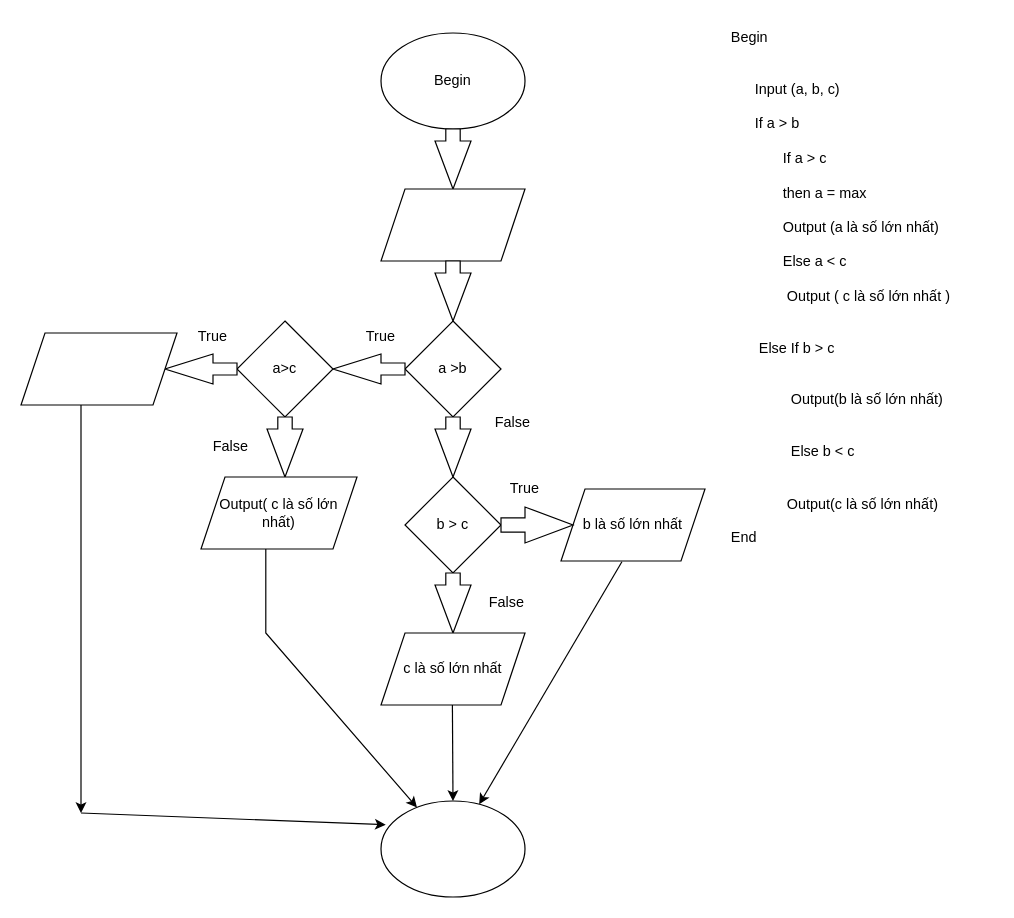
The diagram is 1014 pixels wide and 918 high, and some of its shapes have lost their labels. Each missing label, with the centre of its shape:
"End" goes at [452,848].
"Input(a, b, c)" goes at [452,224].
"Output ( a lớn nhất)" goes at [98,368].
